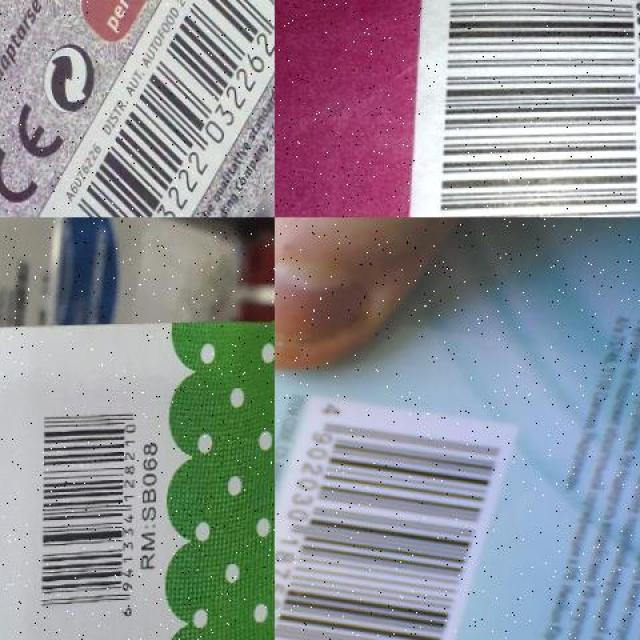Barcode: (274, 390, 522, 640), (29, 0, 274, 217), (405, 0, 639, 217), (28, 394, 140, 630)
